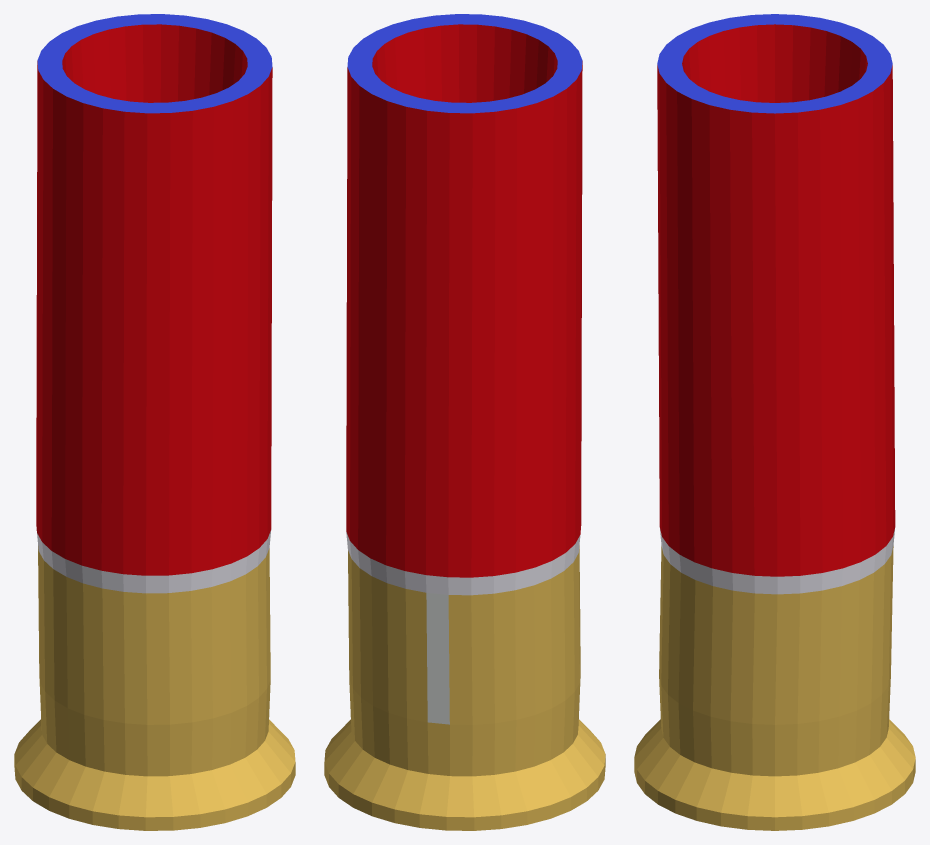
File: BuckShoot.fbx
3 views of the same model, side by side, from view 1: azimuth 30°, elevation 25°; view 2: azimuth 150°, elevation 25°; view 3: azimuth 270°, elevation 25° (orthographic).
Visible parts, largest first — view 1: Cylinder; view 2: Cylinder; view 3: Cylinder.
Boxes of the visible parts, x1,y1,x2,y2 form: Cylinder: (14,14,295,830); Cylinder: (324,14,605,830); Cylinder: (634,14,915,830).
Size of the model in its own units: 318 by 882 by 318.
